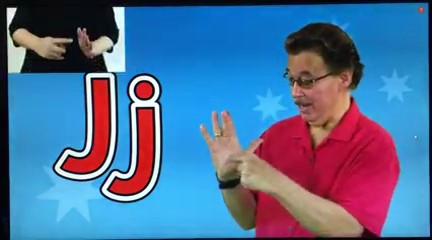J: (194, 104, 282, 200)
